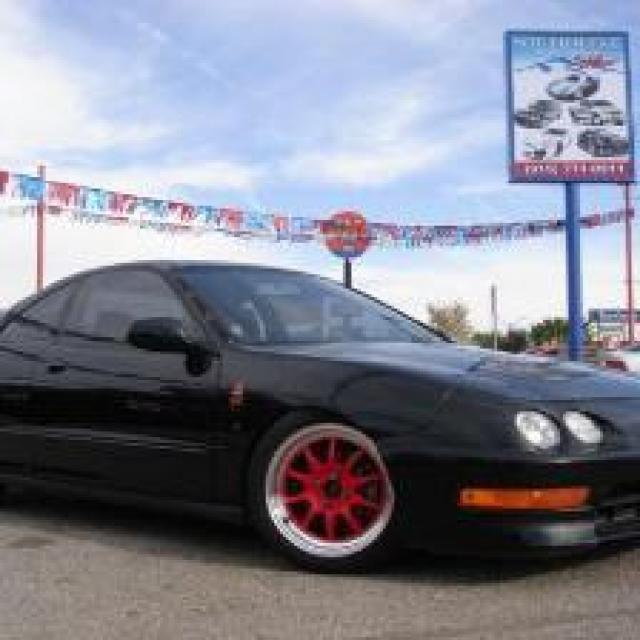damaged: (328, 368, 518, 463)
